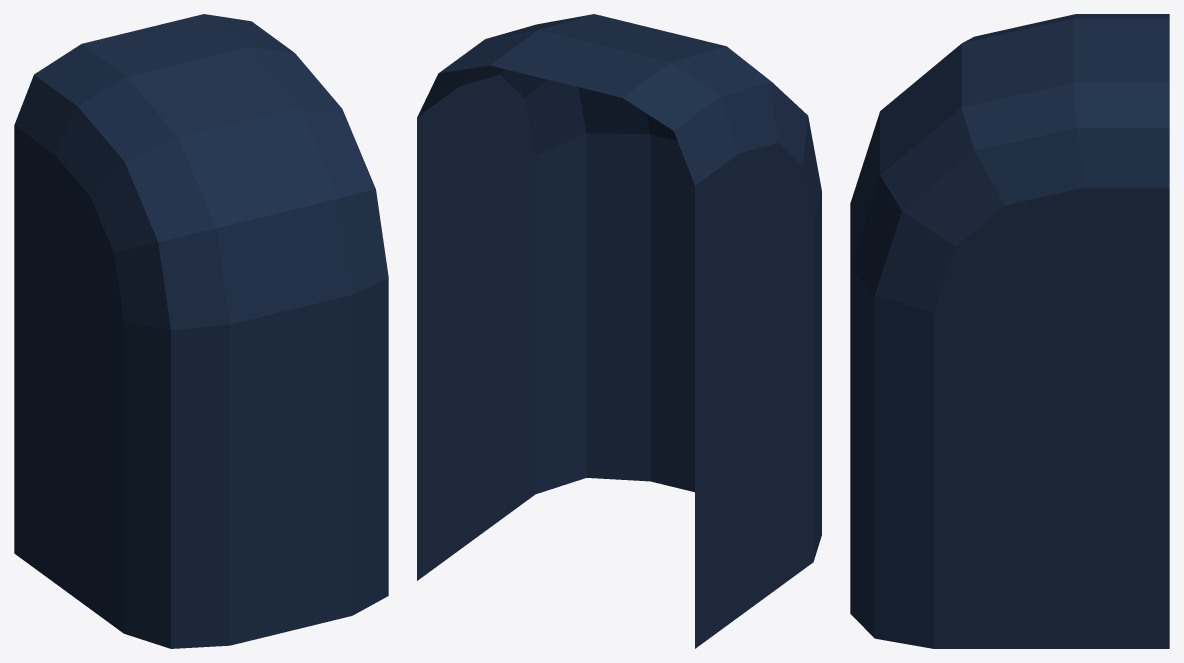
File: Wall_Segment_End.fbx
The picture shows the model from 3 angles, left to right: view 1: azimuth 30°, elevation 25°; view 2: azimuth 150°, elevation 25°; view 3: azimuth 270°, elevation 25°; orthographic projection. The views are drawn at different scales.
Visible parts, largest first — view 1: SmallWallEnd; view 2: SmallWallEnd; view 3: SmallWallEnd.
Boxes of the visible parts, box(x1,y1,x2,y2) form: SmallWallEnd: box(14, 14, 388, 648); SmallWallEnd: box(417, 14, 821, 648); SmallWallEnd: box(850, 14, 1169, 648).
Bounding box in the file's own units: 30 × 55 × 30.
